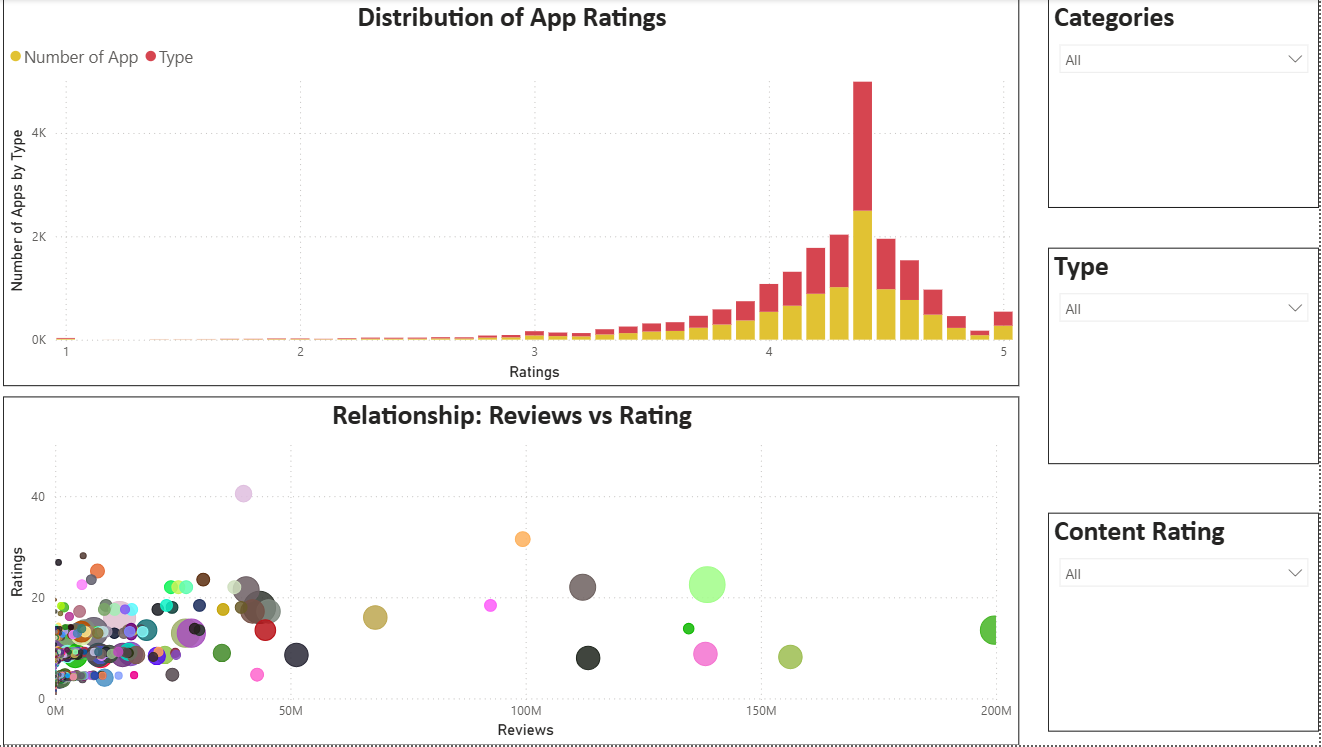

What the dashboard file says about the page in this screenshot:
{"tool":"powerbi","page":{"name":"Ratings vs Reviews – “Engagement Analysis”","canvas":[1280,720],"ordinal":2},"visuals":[{"type":"columnChart","title":"Distribution of App Ratings","fields":{"Category":["google cleaned for Power BI.Rating_Bin"],"Y":["CountNonNull(google cleaned for Power BI.App)","CountNonNull(google cleaned for Power BI.Type)"]},"box":[9.7,0,980.8,374],"z":0},{"type":"scatterChart","title":"Relationship: Reviews vs Rating","fields":{"X":["Sum(google cleaned for Power BI.Reviews)"],"Y":["Sum(google cleaned for Power BI.Rating)"],"Size":["Sum(google cleaned for Power BI.Installs)"],"Series":["google cleaned for Power BI.App"]},"box":[9.7,383.6,980.8,336.6],"z":1},{"type":"slicer","title":"Categories","fields":{"Values":["google cleaned for Power BI.Category"]},"box":[1018.2,0,261.8,201.5],"z":2},{"type":"slicer","title":"Type","fields":{"Values":["google cleaned for Power BI.Type"]},"box":[1018.2,240.1,261.8,208.7],"z":3},{"type":"slicer","title":"Content Rating","fields":{"Values":["google cleaned for Power BI.Content Rating"]},"box":[1018.2,495.8,261.8,211.1],"z":4}]}

Visuals, with their boxes in screenshot pixels (x1, y1, x2, y2), scaled from the page's 1280x720 canvas onto the 1322x747 screenshot:
"Distribution of App Ratings" columnChart: locate(10, 0, 1023, 388)
"Relationship: Reviews vs Rating" scatterChart: locate(10, 398, 1023, 746)
"Categories" slicer: locate(1052, 0, 1321, 209)
"Type" slicer: locate(1052, 249, 1321, 466)
"Content Rating" slicer: locate(1052, 514, 1321, 733)
